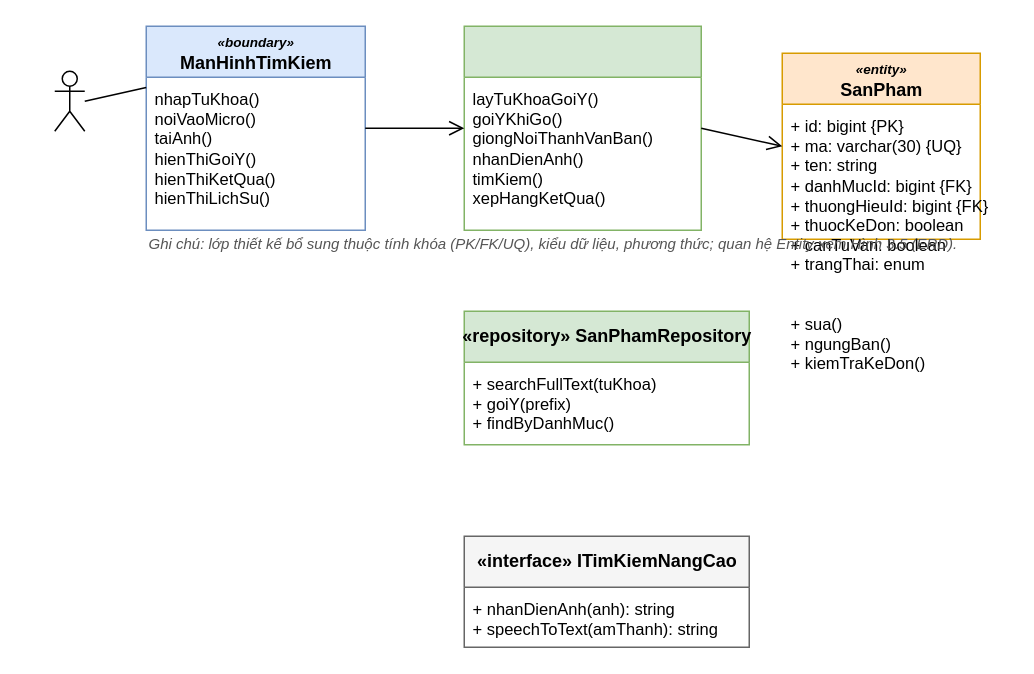
The diagram is 1034 pixels wide and 674 high, and some of its shapes have lost their labels. Here are the shapes that lost their labels. From the top down, the box of each, then its label:
(53, 70, 85, 131): Người dùng
(463, 25, 701, 230): «control» TimKiemControl
